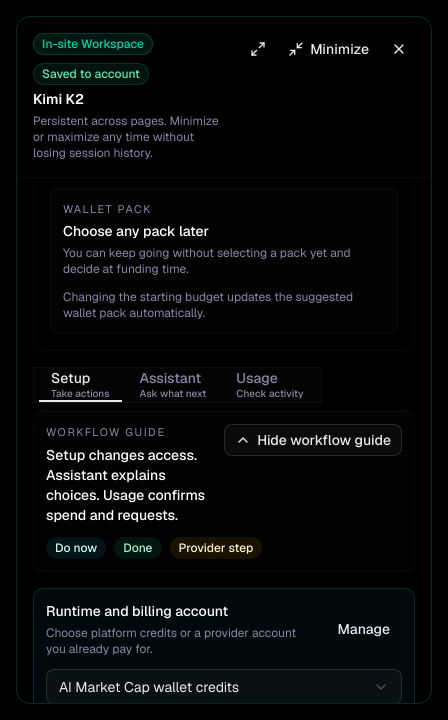
Test: DeployWorkspacePanel › renders explicit workflow controls and step labels in the expanded panel
(page scrolled)
Expected: the button named "Maximize workflow panel" is shown, left=242, top=33, right=274, bottom=65
Expected: the button with aria-label "Minimize workflow panel" is shown, left=278, top=33, right=379, bottom=65
Click the button "Hide workflow guide": (313, 440) left=224, top=424, right=402, bottom=456
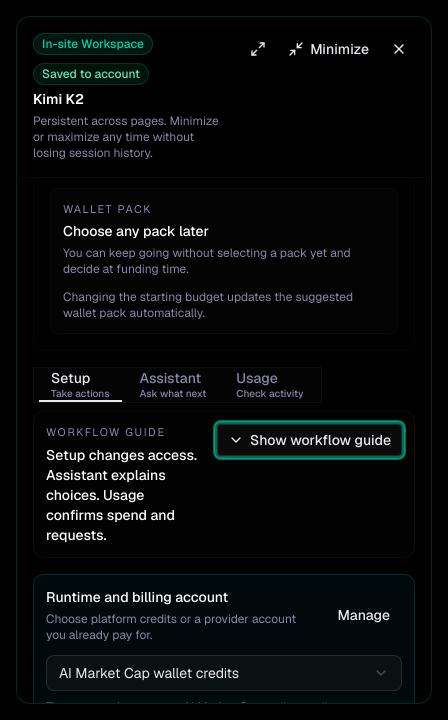
Result: the button "Show workflow guide" is shown at left=217, top=424, right=402, bottom=456
